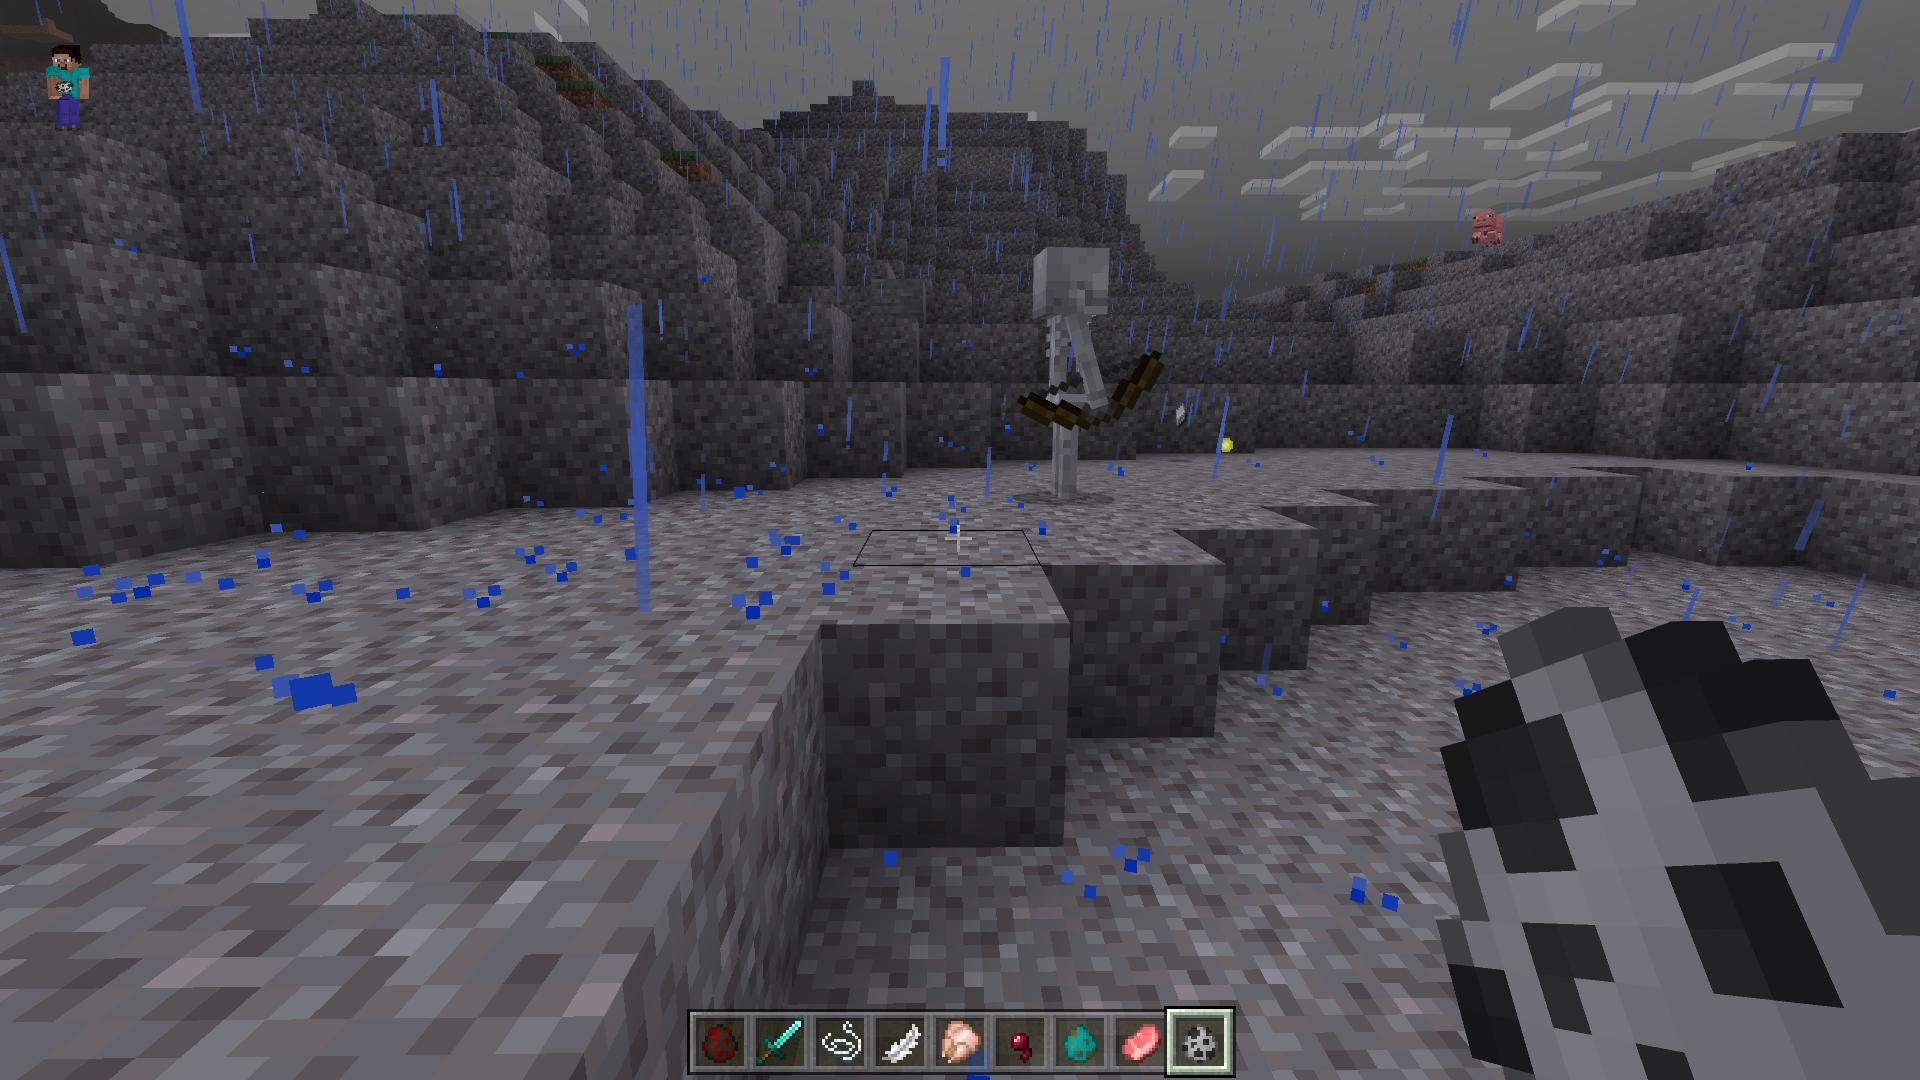skeleton: (1015, 241, 1163, 500)
